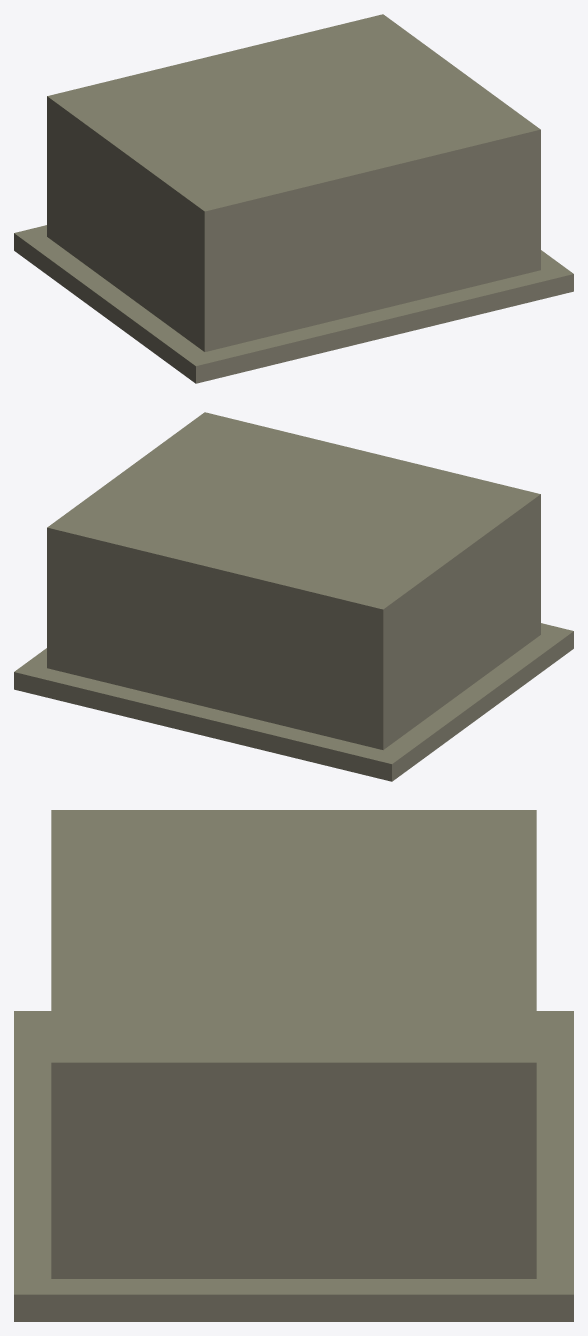
The model's file is ruin-house-a.far-facades-v1.lod2.glb.
3 views of the same model, one above another, from view 1: azimuth 30°, elevation 25°; view 2: azimuth 150°, elevation 25°; view 3: azimuth 270°, elevation 25° (orthographic). The views are drawn at different scales.
Parts seen in each view (by area): view 1: ruin-house-a; view 2: ruin-house-a; view 3: ruin-house-a.
Boxes of the visible parts, left/top/right/bottom form: ruin-house-a: left=14, top=14, right=573, bottom=383; ruin-house-a: left=14, top=412, right=573, bottom=781; ruin-house-a: left=14, top=810, right=573, bottom=1321.
Size of the model in its own units: 9 by 3.6 by 7.5.
